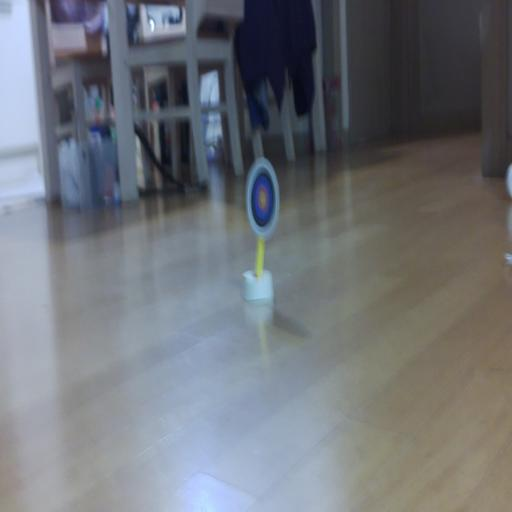target: (246, 159, 280, 240)
